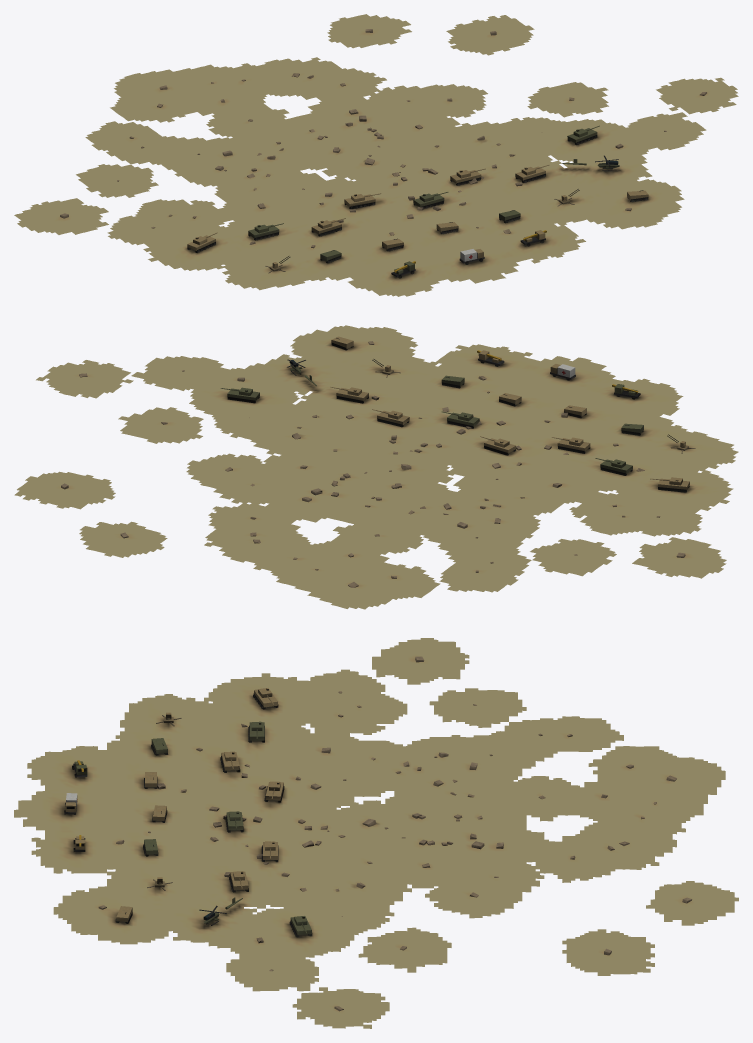
3 views of the same model, one above another, from view 1: azimuth 30°, elevation 25°; view 2: azimuth 150°, elevation 25°; view 3: azimuth 270°, elevation 25° (orthographic). The views are drawn at different scales.
Parts seen in each view (by area): view 1: sediment, vehicles, reef; view 2: sediment, vehicles, reef; view 3: sediment, vehicles, reef.
Boxes of the visible parts, box(x1,y1,x2,y2) form: sediment: box(14, 14, 738, 296); vehicles: box(187, 125, 648, 278); reef: box(60, 29, 706, 248); sediment: box(14, 325, 738, 609); vehicles: box(220, 336, 695, 492); reef: box(61, 341, 685, 587); sediment: box(14, 638, 738, 1028); vehicles: box(64, 688, 312, 937); reef: box(98, 656, 692, 1011).
Size of the model in its own units: 209 by 3.85 by 164.
Materials: 3 (2 with a texture image).
